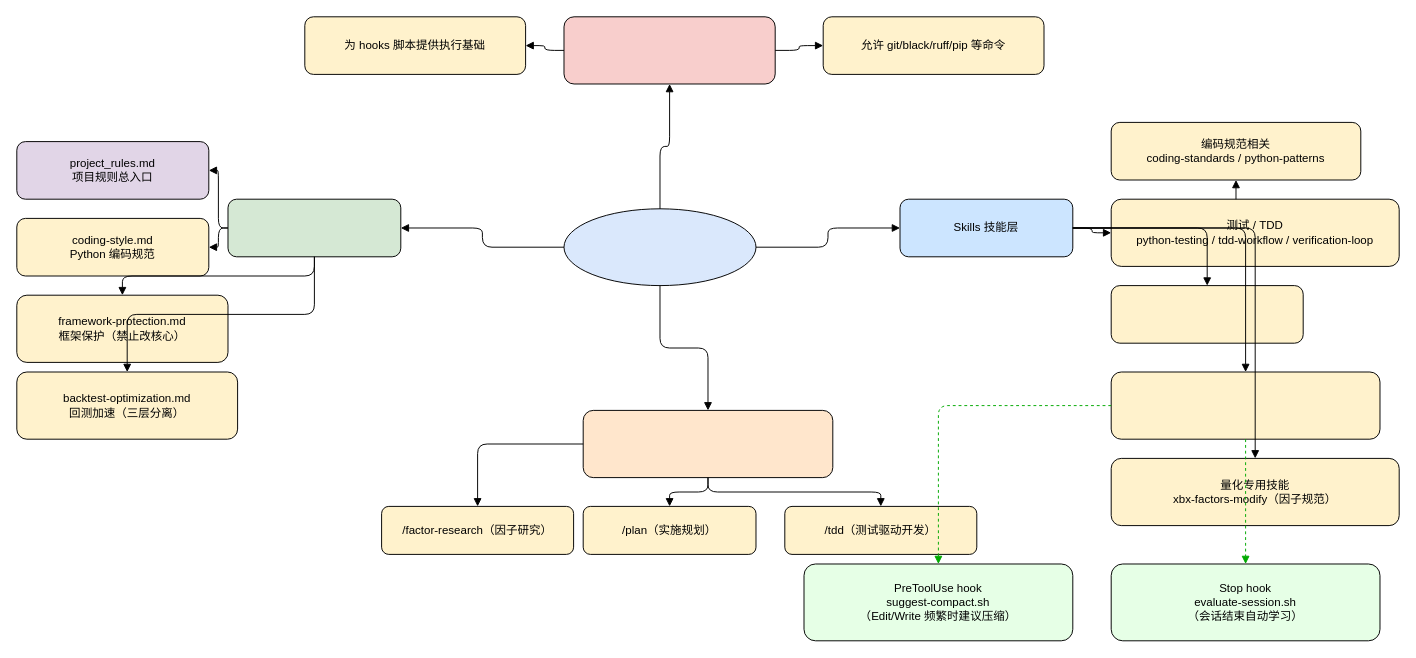
This 1416x658 diagram has some shape labels left out. Each missing label, with the centre of its shape:
".trae 配置系统" belongs at (659,247).
"claude_settings.json （权限 / Bash 白名单）" belongs at (669,50).
"Commands 命令层 /plan /tdd /factor-research ..." belongs at (707,443).
"Rules 规则层" belongs at (314,227).
"上下文与学习 continuous-learning / strategic-compact" belongs at (1245,405).
"安全审查 security-review" belongs at (1206,314).
